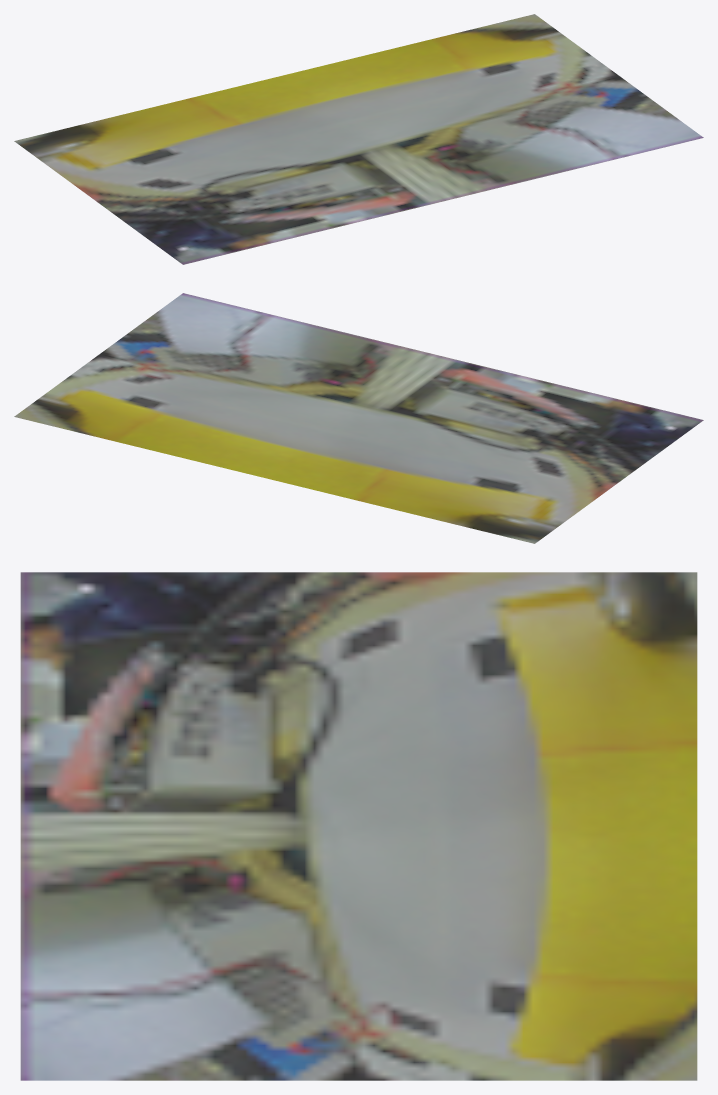
The model's file is plane_single.gltf.
3 renders of one model, top to bottom at view 1: azimuth 30°, elevation 25°; view 2: azimuth 150°, elevation 25°; view 3: azimuth 270°, elevation 25°, orthographic. The views are drawn at different scales.
Parts seen in each view (by area): view 1: right_only; view 2: right_only; view 3: right_only.
Boxes of the visible parts, bbox=[...] form: right_only: bbox=[14, 14, 703, 264]; right_only: bbox=[14, 293, 703, 543]; right_only: bbox=[20, 572, 697, 1080].
Size of the model in its own units: 12.8 by 0 by 7.2.
Materials: 1 (1 with a texture image).
